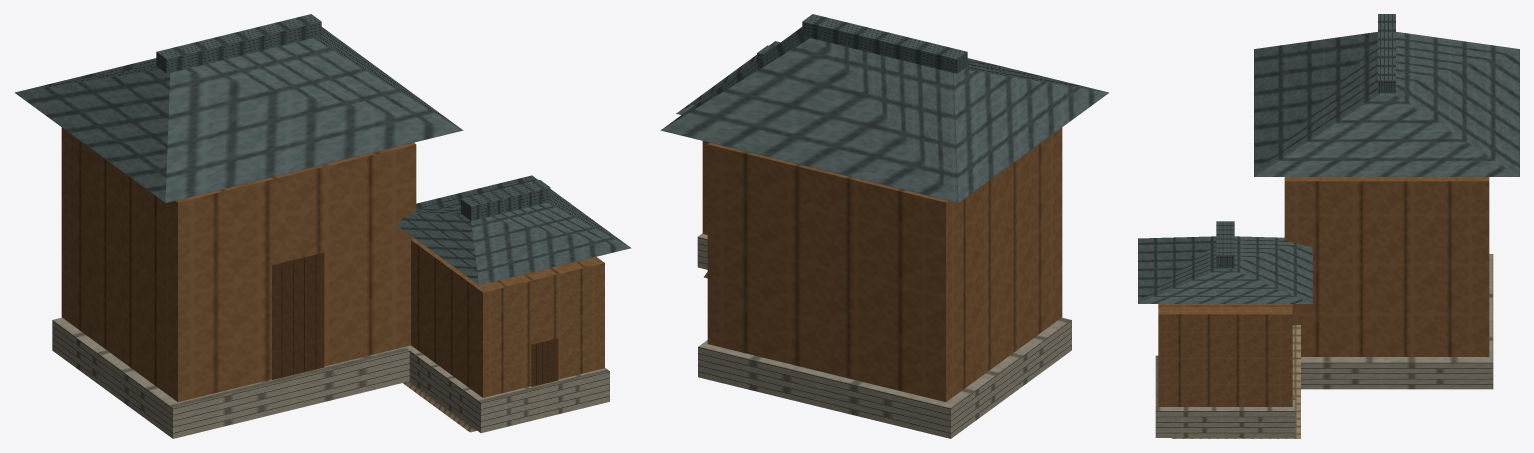
Rendered from domestic-BARRACKS-2-lod2.glb.
3 views of the same model, side by side, from view 1: azimuth 30°, elevation 25°; view 2: azimuth 150°, elevation 25°; view 3: azimuth 270°, elevation 25° (orthographic). The views are drawn at different scales.
Bounding box in the file's own units: 0.755 × 0.6 × 0.7095.
1 material, 1 textured.
